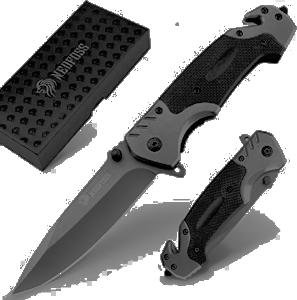knife: (4, 0, 296, 300), (147, 111, 296, 299)
